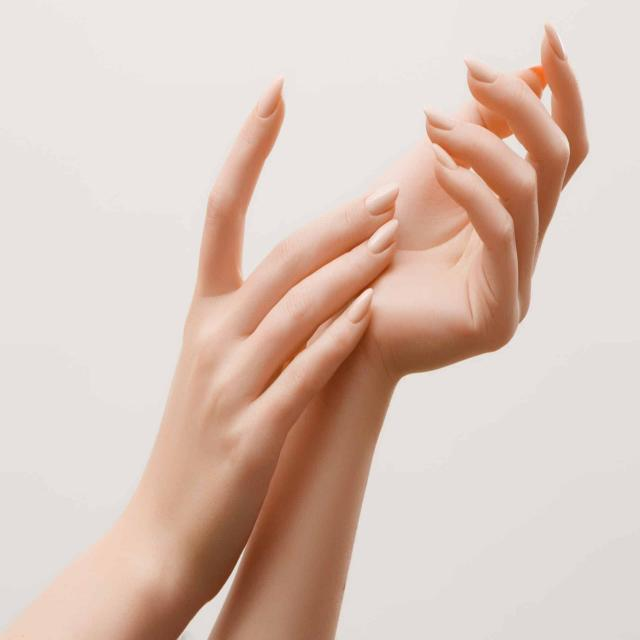Hand: (129, 67, 403, 567), (318, 14, 598, 389)
